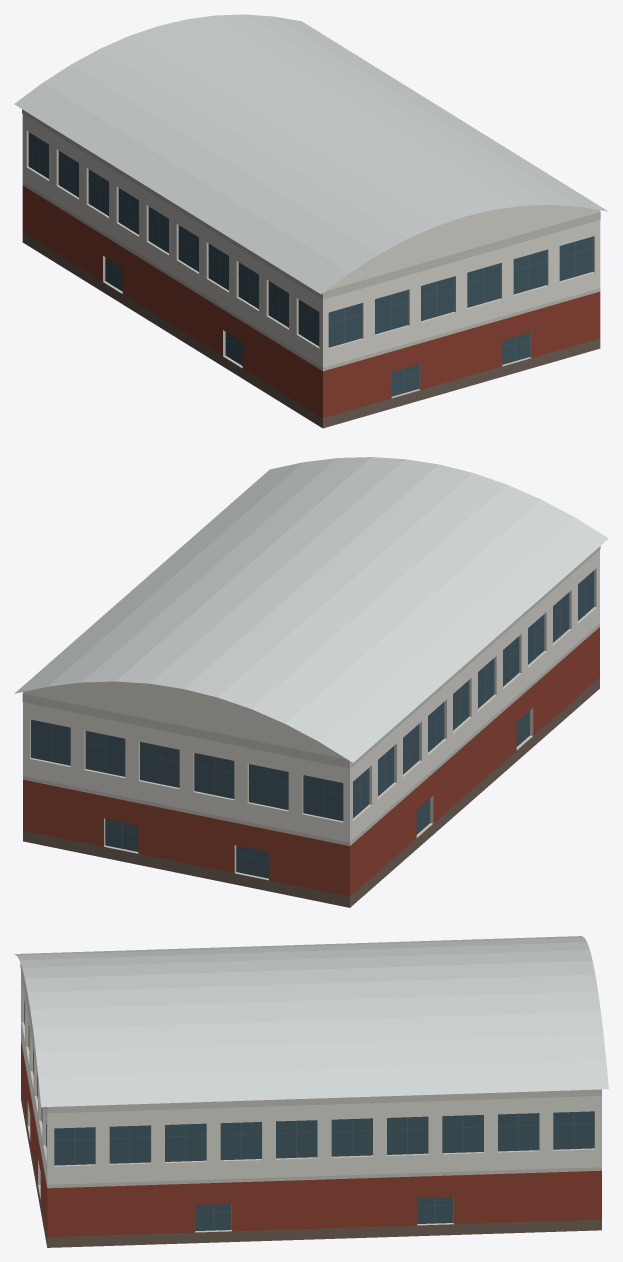
3 renders of one model, top to bottom at view 1: azimuth 30°, elevation 25°; view 2: azimuth 150°, elevation 25°; view 3: azimuth 270°, elevation 25°, orthographic. The views are drawn at different scales.
Parts seen in each view (by area): view 1: hall2__roof-metal, hall2__wall-plaster, hall2__brick, hall2__glass, hall2__trim-concrete, hall2__base-stone, hall2__frame; view 2: hall2__roof-metal, hall2__wall-plaster, hall2__brick, hall2__glass, hall2__trim-concrete, hall2__base-stone, hall2__frame; view 3: hall2__roof-metal, hall2__brick, hall2__wall-plaster, hall2__glass, hall2__trim-concrete, hall2__base-stone, hall2__frame.
Part boxes in pixels (<box>): hall2__roof-metal: <box>14,14,608,294</box>; hall2__wall-plaster: <box>22,114,600,367</box>; hall2__brick: <box>22,185,600,417</box>; hall2__glass: <box>28,132,592,396</box>; hall2__trim-concrete: <box>22,109,600,398</box>; hall2__base-stone: <box>22,232,600,428</box>; hall2__frame: <box>28,139,593,393</box>; hall2__roof-metal: <box>14,457,608,762</box>; hall2__wall-plaster: <box>23,550,599,842</box>; hall2__brick: <box>23,627,599,896</box>; hall2__glass: <box>31,570,594,878</box>; hall2__trim-concrete: <box>22,546,600,880</box>; hall2__base-stone: <box>23,678,599,907</box>; hall2__frame: <box>31,578,594,875</box>; hall2__roof-metal: <box>14,936,608,1107</box>; hall2__brick: <box>21,1041,601,1237</box>; hall2__wall-plaster: <box>21,971,601,1184</box>; hall2__glass: <box>24,1001,594,1230</box>; hall2__trim-concrete: <box>20,963,601,1232</box>; hall2__base-stone: <box>21,1090,601,1247</box>; hall2__frame: <box>24,1000,594,1230</box>.
Size of the model in its own units: 30.79 by 15.25 by 45.22.
